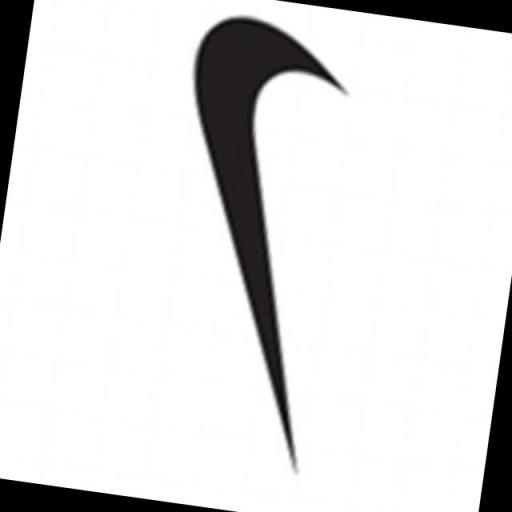Nike: (138, 9, 358, 471)
